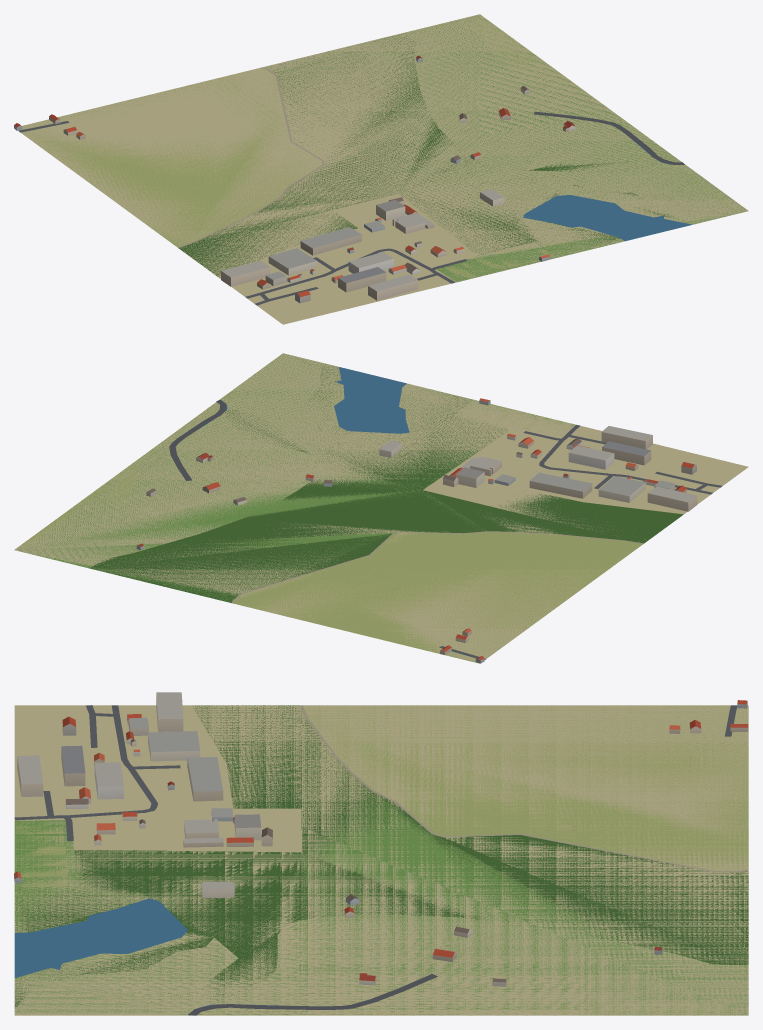
3 views of the same model, one above another, from view 1: azimuth 30°, elevation 25°; view 2: azimuth 150°, elevation 25°; view 3: azimuth 270°, elevation 25° (orthographic). The views are drawn at different scales.
Visible parts, largest first — view 1: landuse, buildings_walls, buildings_roofs, water, roads; view 2: landuse, buildings_walls, buildings_roofs, water, roads; view 3: landuse, buildings_roofs, water, buildings_walls, roads.
Part boxes in pixels (x1,y1,x2,y2): landuse: (19, 14, 748, 324); buildings_walls: (14, 57, 576, 303); buildings_roofs: (14, 55, 575, 297); water: (523, 141, 692, 241); roads: (18, 67, 684, 305); landuse: (14, 353, 748, 663); buildings_walls: (136, 400, 697, 663); buildings_roofs: (138, 398, 696, 660); water: (198, 367, 409, 433); roads: (169, 400, 722, 659); landuse: (14, 705, 748, 1015); buildings_roofs: (14, 692, 748, 982); water: (14, 898, 289, 1015); buildings_walls: (14, 696, 748, 986); roads: (14, 705, 748, 1015).
Bounding box in the file's own units: 502 × 9.6 × 501.
